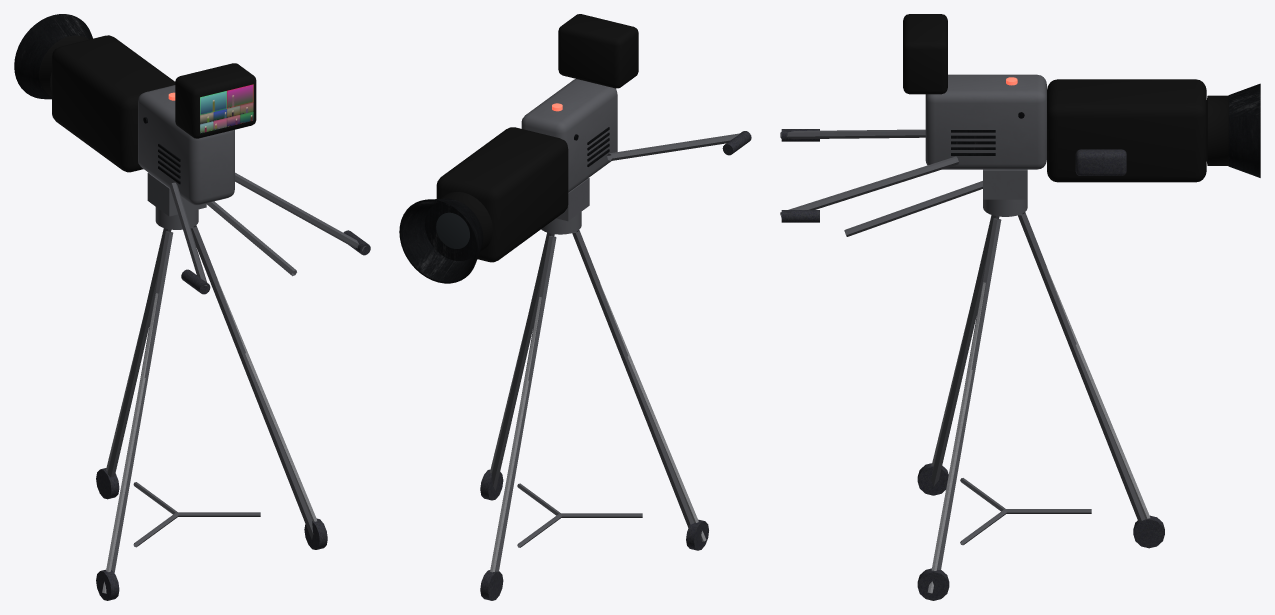
The model's file is camera_studio_box_lens.gltf.
The picture shows the model from 3 angles, left to right: view 1: azimuth 30°, elevation 25°; view 2: azimuth 150°, elevation 25°; view 3: azimuth 270°, elevation 25°; orthographic projection. The views are drawn at different scales.
Parts seen in each view (by area): view 1: camera_studio_box_lens; view 2: camera_studio_box_lens; view 3: camera_studio_box_lens.
Part boxes in pixels (left/top/right/bottom): camera_studio_box_lens: left=14, top=14, right=370, bottom=600; camera_studio_box_lens: left=399, top=14, right=751, bottom=600; camera_studio_box_lens: left=780, top=14, right=1260, bottom=600.
Size of the model in its own units: 0.8329 by 1.79 by 1.5.
Materials: 8 (6 with a texture image).
